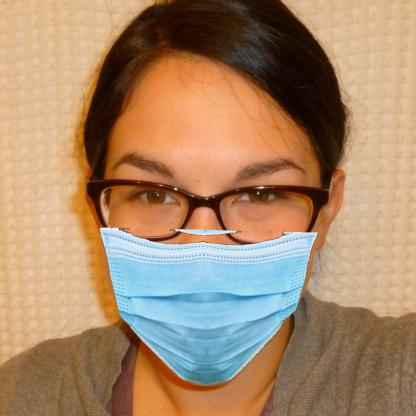Correctly_Masked: (95, 65, 319, 389)
